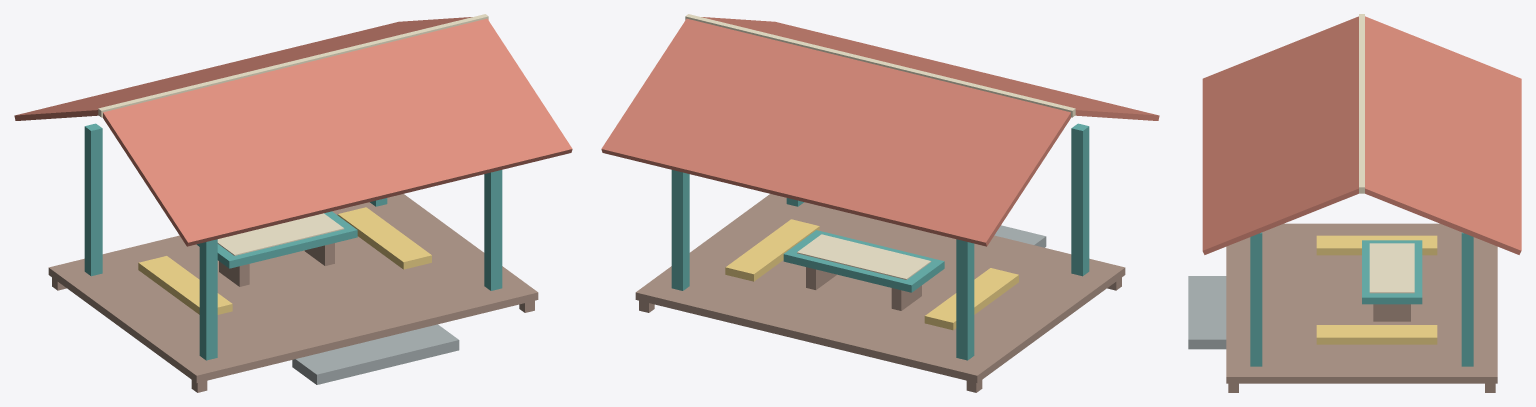
File: 01_CommandPavilion.glb
3 views of the same model, side by side, from view 1: azimuth 30°, elevation 25°; view 2: azimuth 150°, elevation 25°; view 3: azimuth 270°, elevation 25° (orthographic). The views are drawn at different scales.
Visible parts, largest first — view 1: 01_CommandPavilion; view 2: 01_CommandPavilion; view 3: 01_CommandPavilion.
Boxes of the visible parts, x1,y1,x2,y2 form: 01_CommandPavilion: [14, 14, 572, 392]; 01_CommandPavilion: [601, 14, 1159, 392]; 01_CommandPavilion: [1188, 14, 1521, 392].
Bounding box in the file's own units: 27.2 × 15.85 × 22.07.
